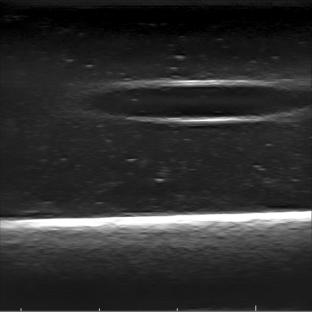vessel: (86, 77, 305, 125)
